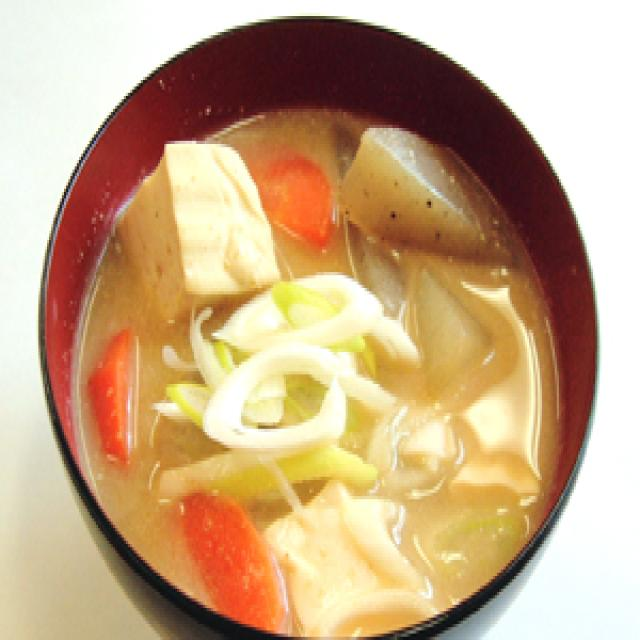蔬菜料理: (32, 13, 585, 640)
